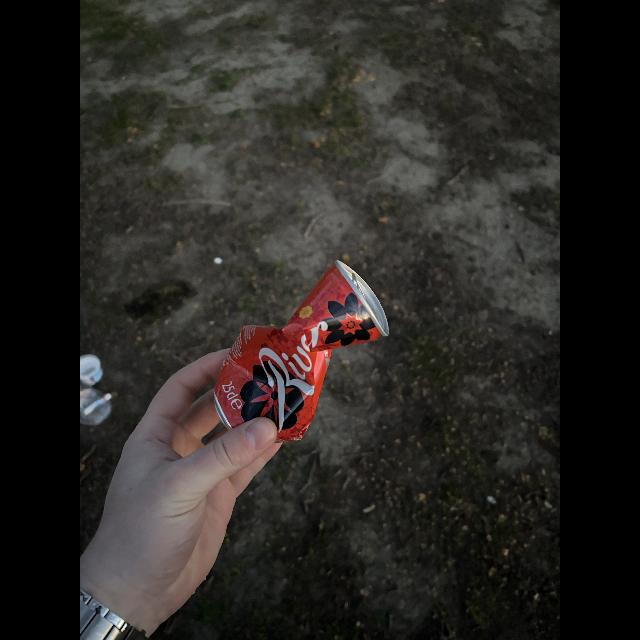Metal: (208, 241, 396, 453)
Plastic: (80, 352, 120, 432)
